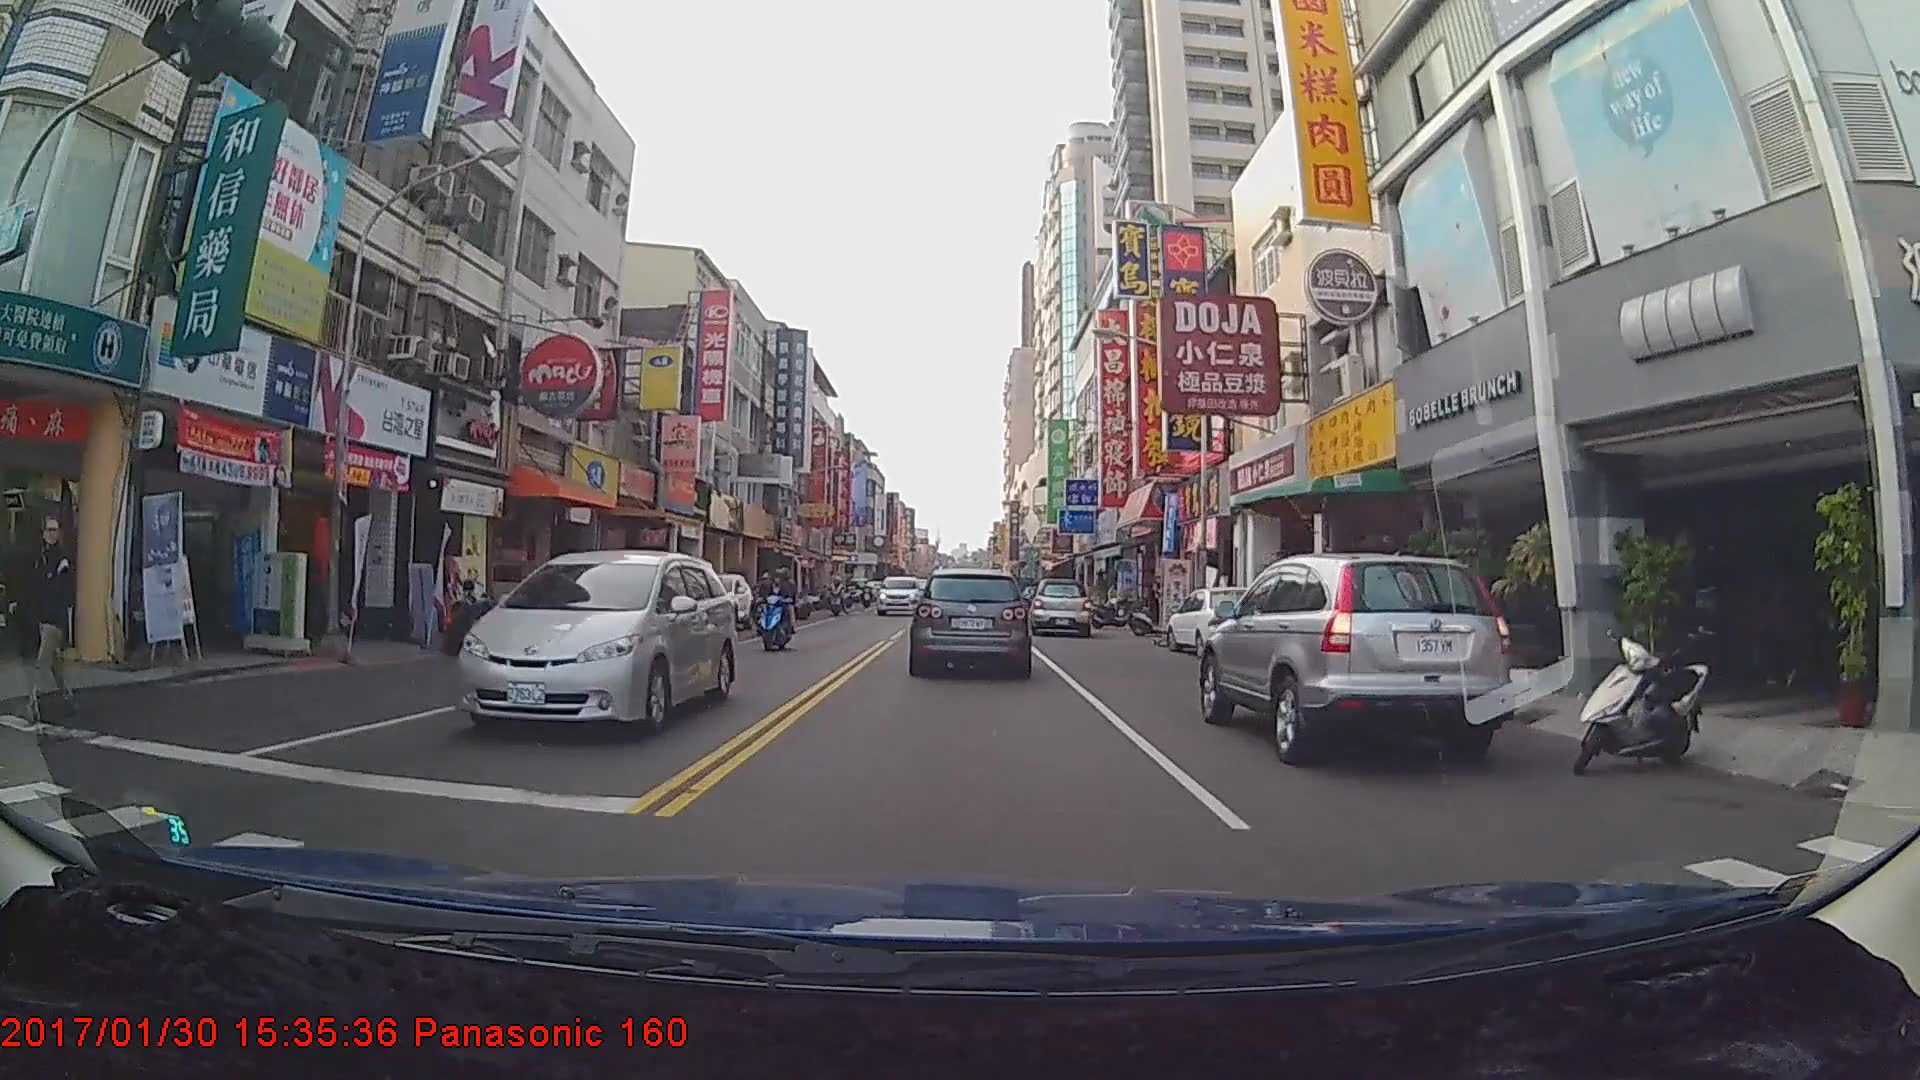pedestrian: (15, 516, 84, 733)
rider: (753, 569, 800, 654)
vehicle: (1199, 549, 1517, 768), (456, 547, 734, 742), (909, 568, 1030, 675), (1163, 585, 1274, 657), (680, 572, 754, 631), (1029, 577, 1092, 636), (874, 573, 923, 617)
